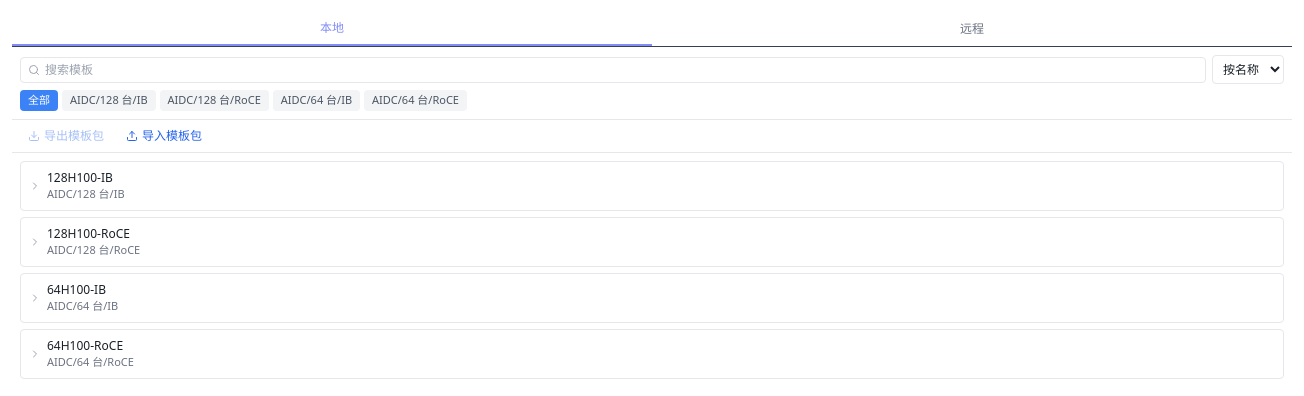
Test case: 4.9.0 模板中心远程 tab › 登录后远程错误状态
The width and height of the screenshot is (1304, 396).
Click the button "远程" at (972, 29), box [652,12,1292,46]
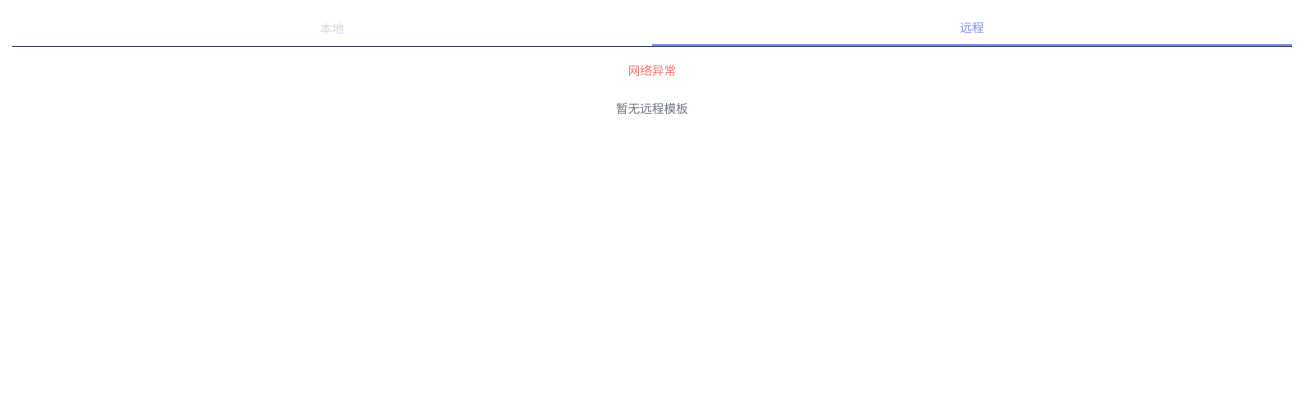
Now the text "网络异常" is shown, box [628,62,676,79]
